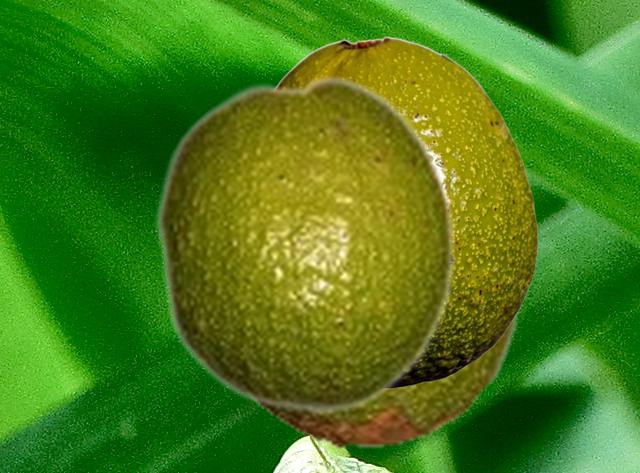avocado: (154, 73, 457, 416), (276, 36, 537, 388), (246, 305, 522, 449)
